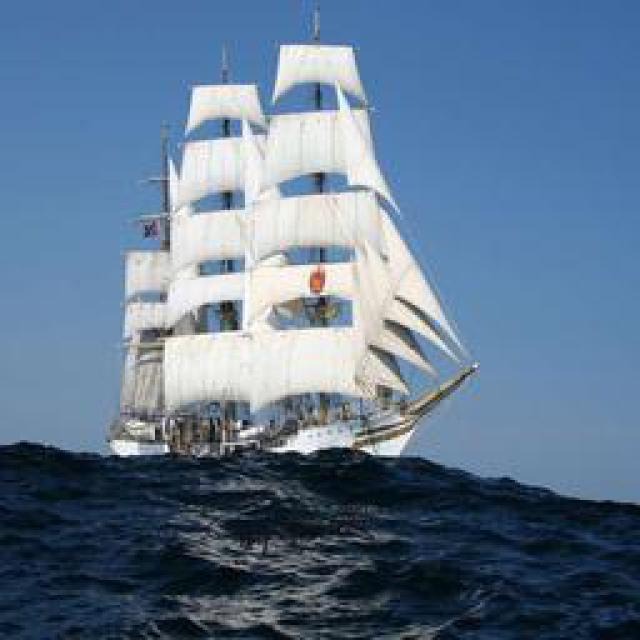Ship: (114, 26, 487, 461)
